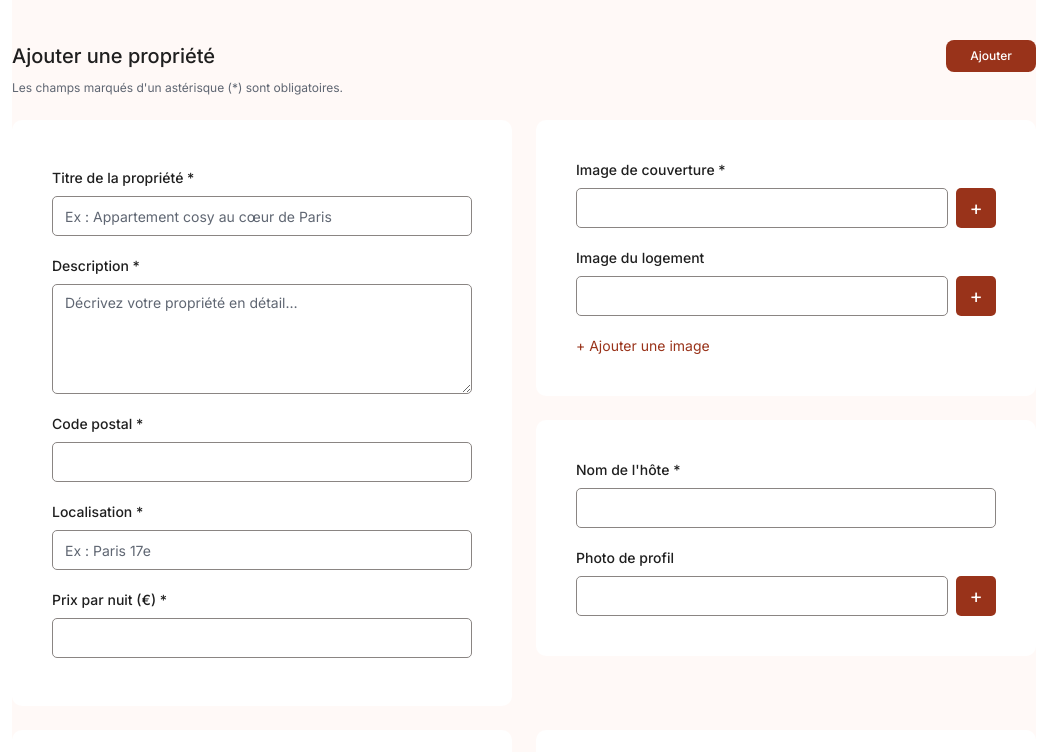
PropertyForm › bloque l'envoi et liste les champs obligatoires manquants
This screenshot has width=1048, height=752.
Step 1. Click the button "Ajouter" → click(991, 56), box top-left (946, 40), bottom-right (1036, 72)
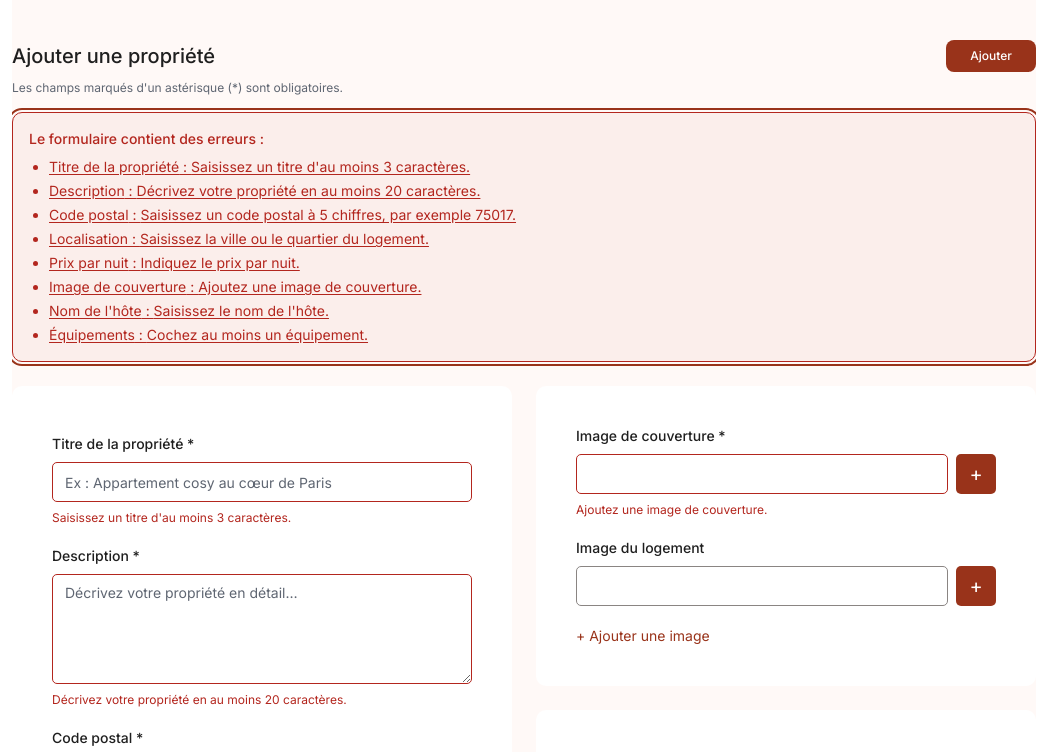
Expected: the field labelled "Titre de la propriété *" is marked as invalid, top-left (52, 462), bottom-right (472, 502)
